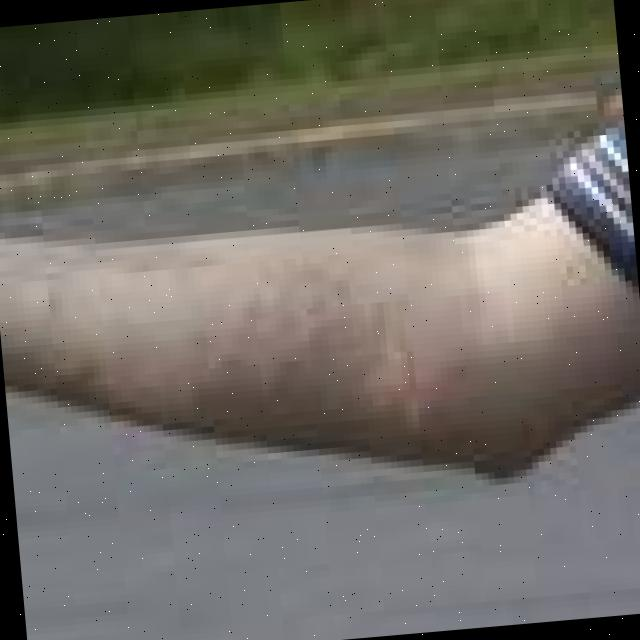kan emici bocekler: (356, 344, 430, 426)
